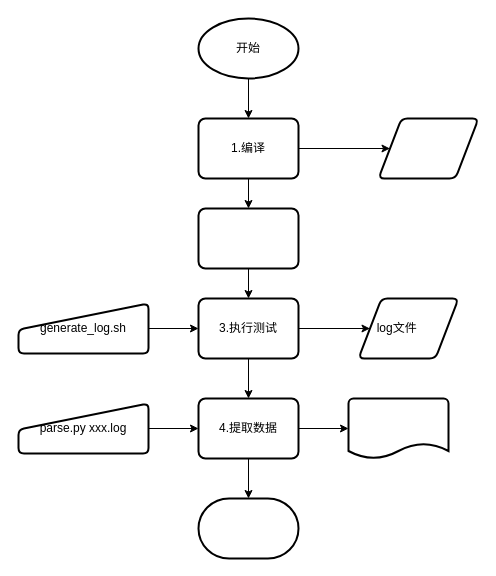
This 496x576 diagram has some shape labels left out. Here are the shapes that lost their labels. From the top down, the centre of each, then its label:
At [428,148]: "可执行程序 库文件".
At [248,238]: "2.安装".
At [398,428]: "Excel报表".
At [248,528]: "结束".
